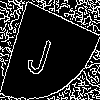J: (24, 25, 57, 78)
